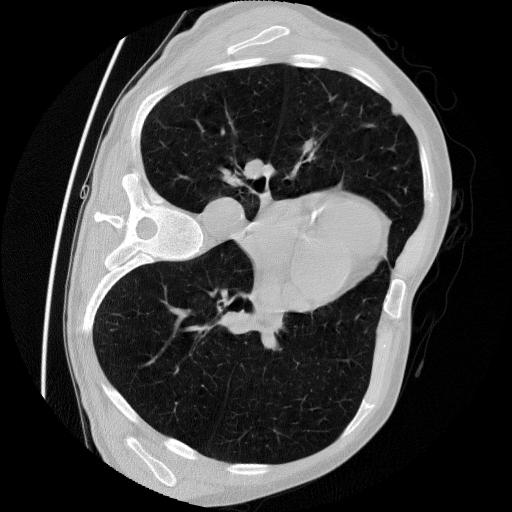nodule: (387, 105, 404, 122)
